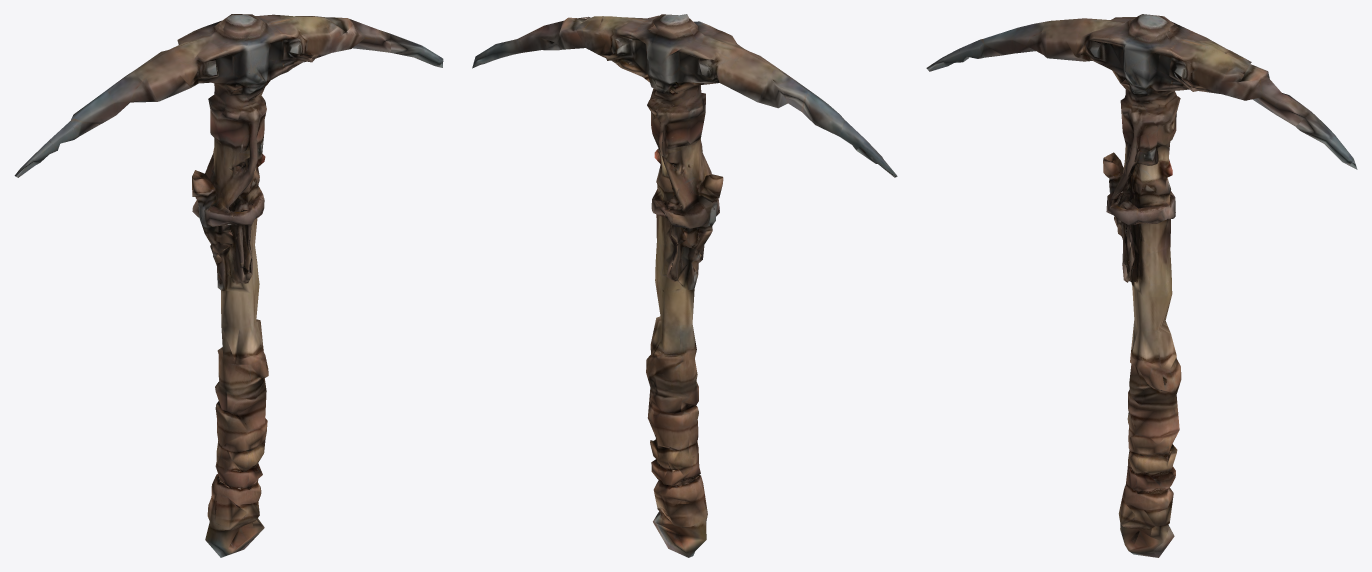
The model's file is 1570_pick.glb.
The picture shows the model from 3 angles, left to right: view 1: azimuth 30°, elevation 25°; view 2: azimuth 150°, elevation 25°; view 3: azimuth 330°, elevation 25°; orthographic projection.
Visible parts, largest first — view 1: Model; view 2: Model; view 3: Model.
Boxes of the visible parts, x1,y1,x2,y2 form: Model: [14, 14, 443, 557]; Model: [472, 14, 897, 557]; Model: [926, 14, 1357, 557].
Bounding box in the file's own units: 0.8328 × 1 × 0.1273.
1 material, 1 textured.
